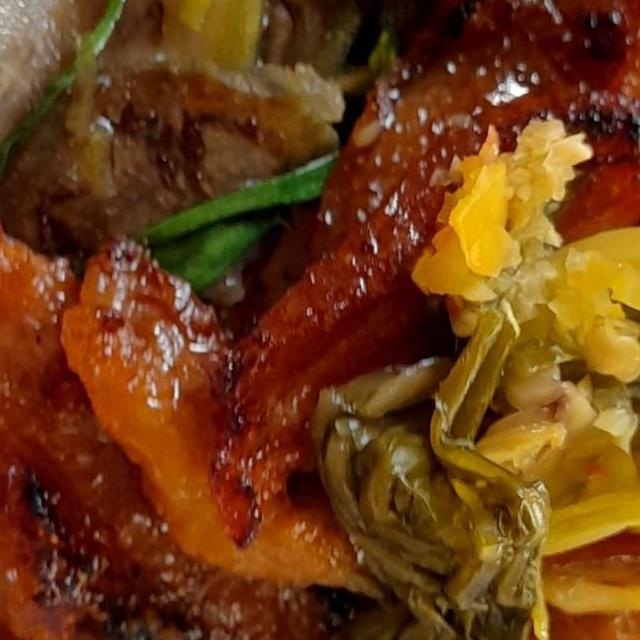com suon cha: (0, 0, 640, 640)
dua chua: (304, 109, 640, 640), (0, 0, 430, 320)
suon: (45, 0, 640, 640), (0, 215, 632, 640)
